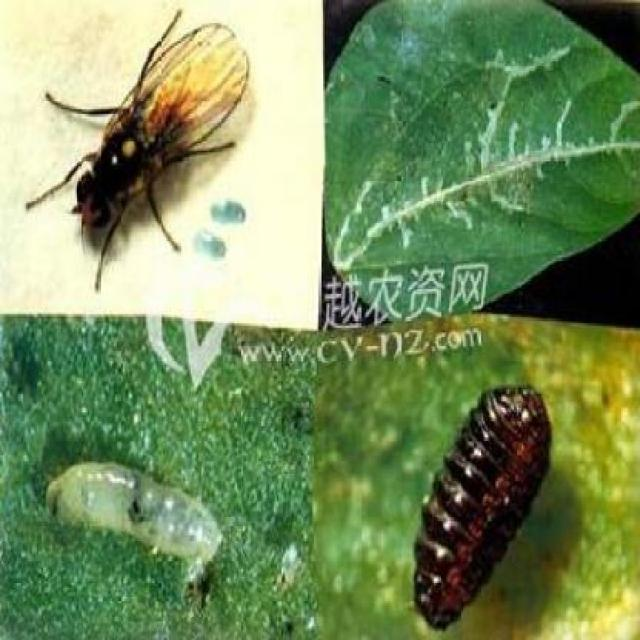whorl-maggot: (407, 370, 562, 638), (43, 440, 228, 591)
